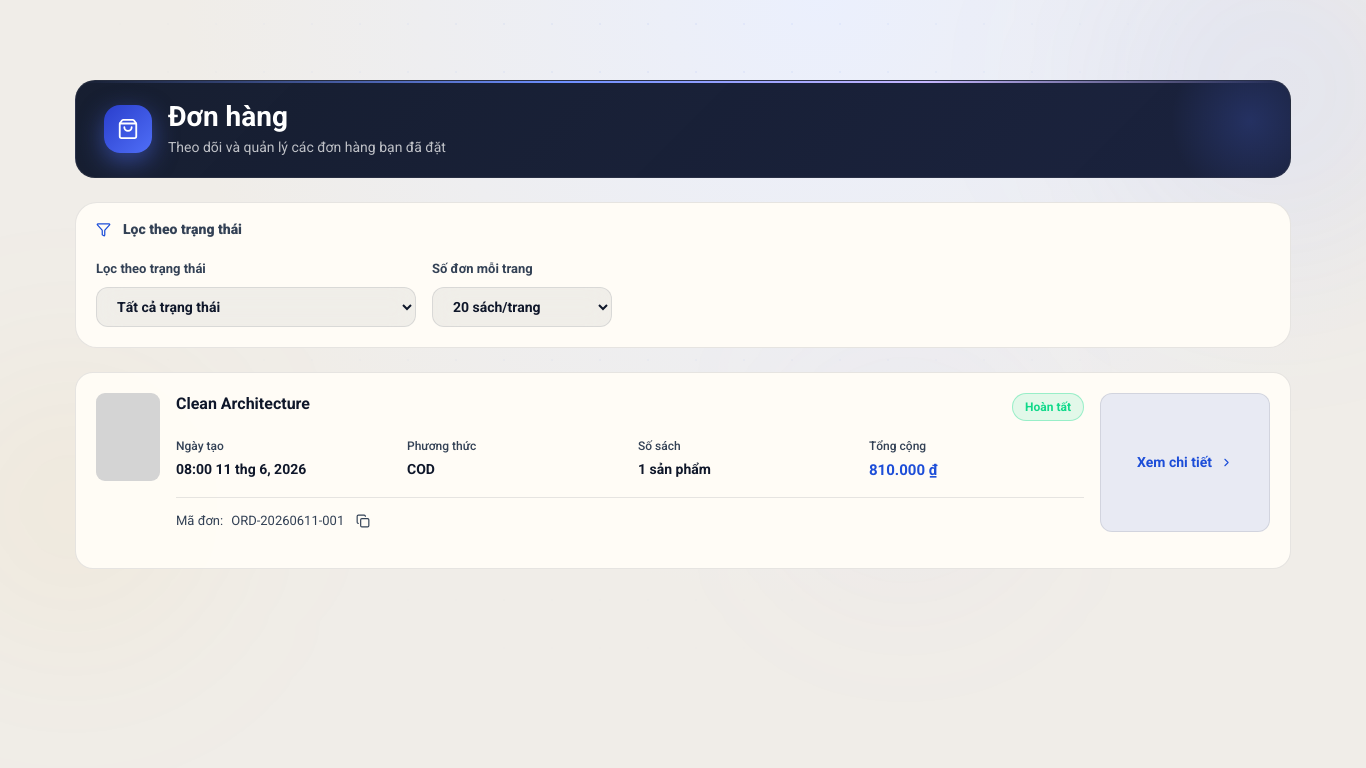
OrdersPage payment actions › disables review action for order items already reviewed by the backend
Expected: the text "ORD-20260611-001" is shown, [231,511,344,531]
Click the button "Xem chi tiết" at (1185, 462), box [1100,392,1270,532]
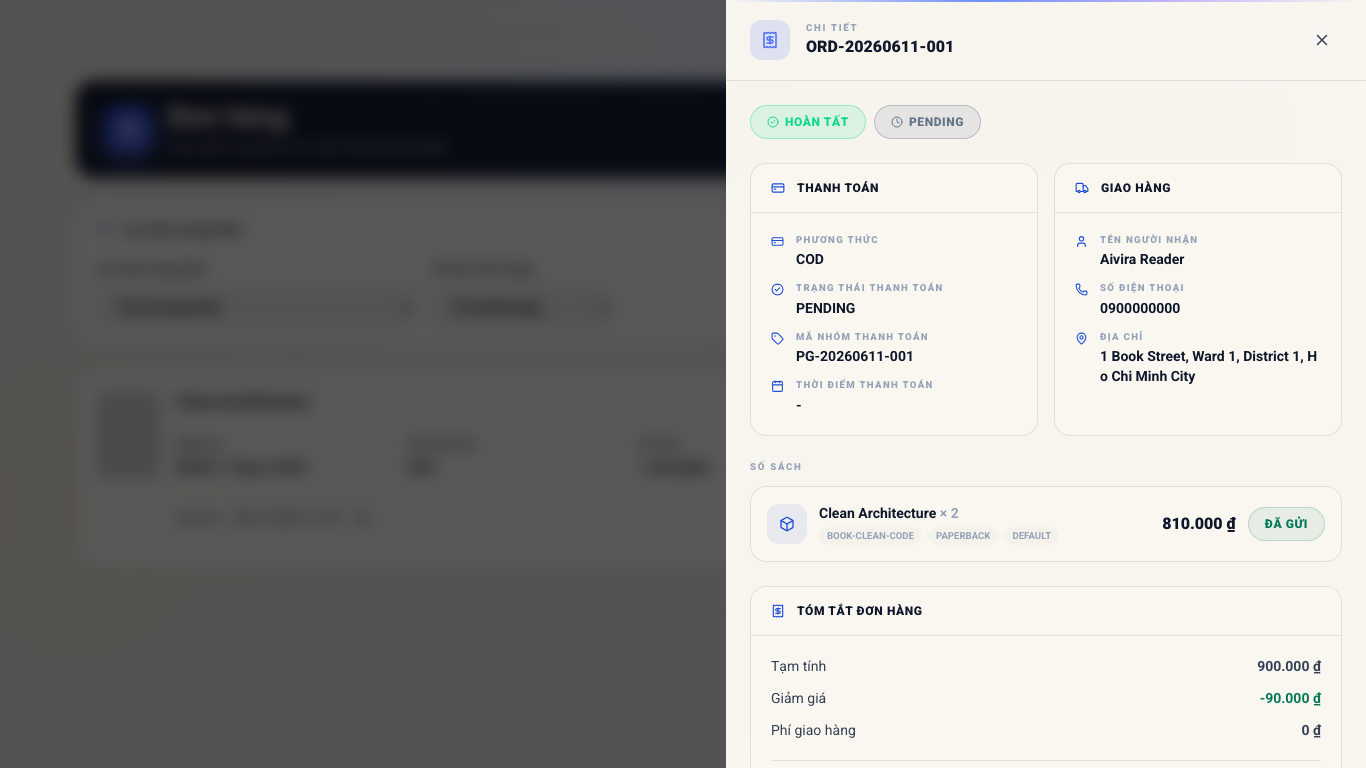
Expected: the button "Đã gửi" is disabled, [1248,507,1325,541]
